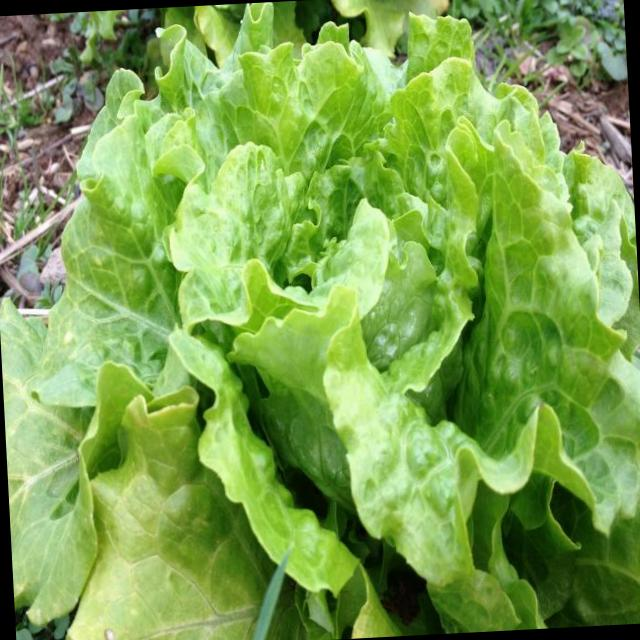Lettuce-Ready-to-Harvest: (0, 2, 640, 640)
